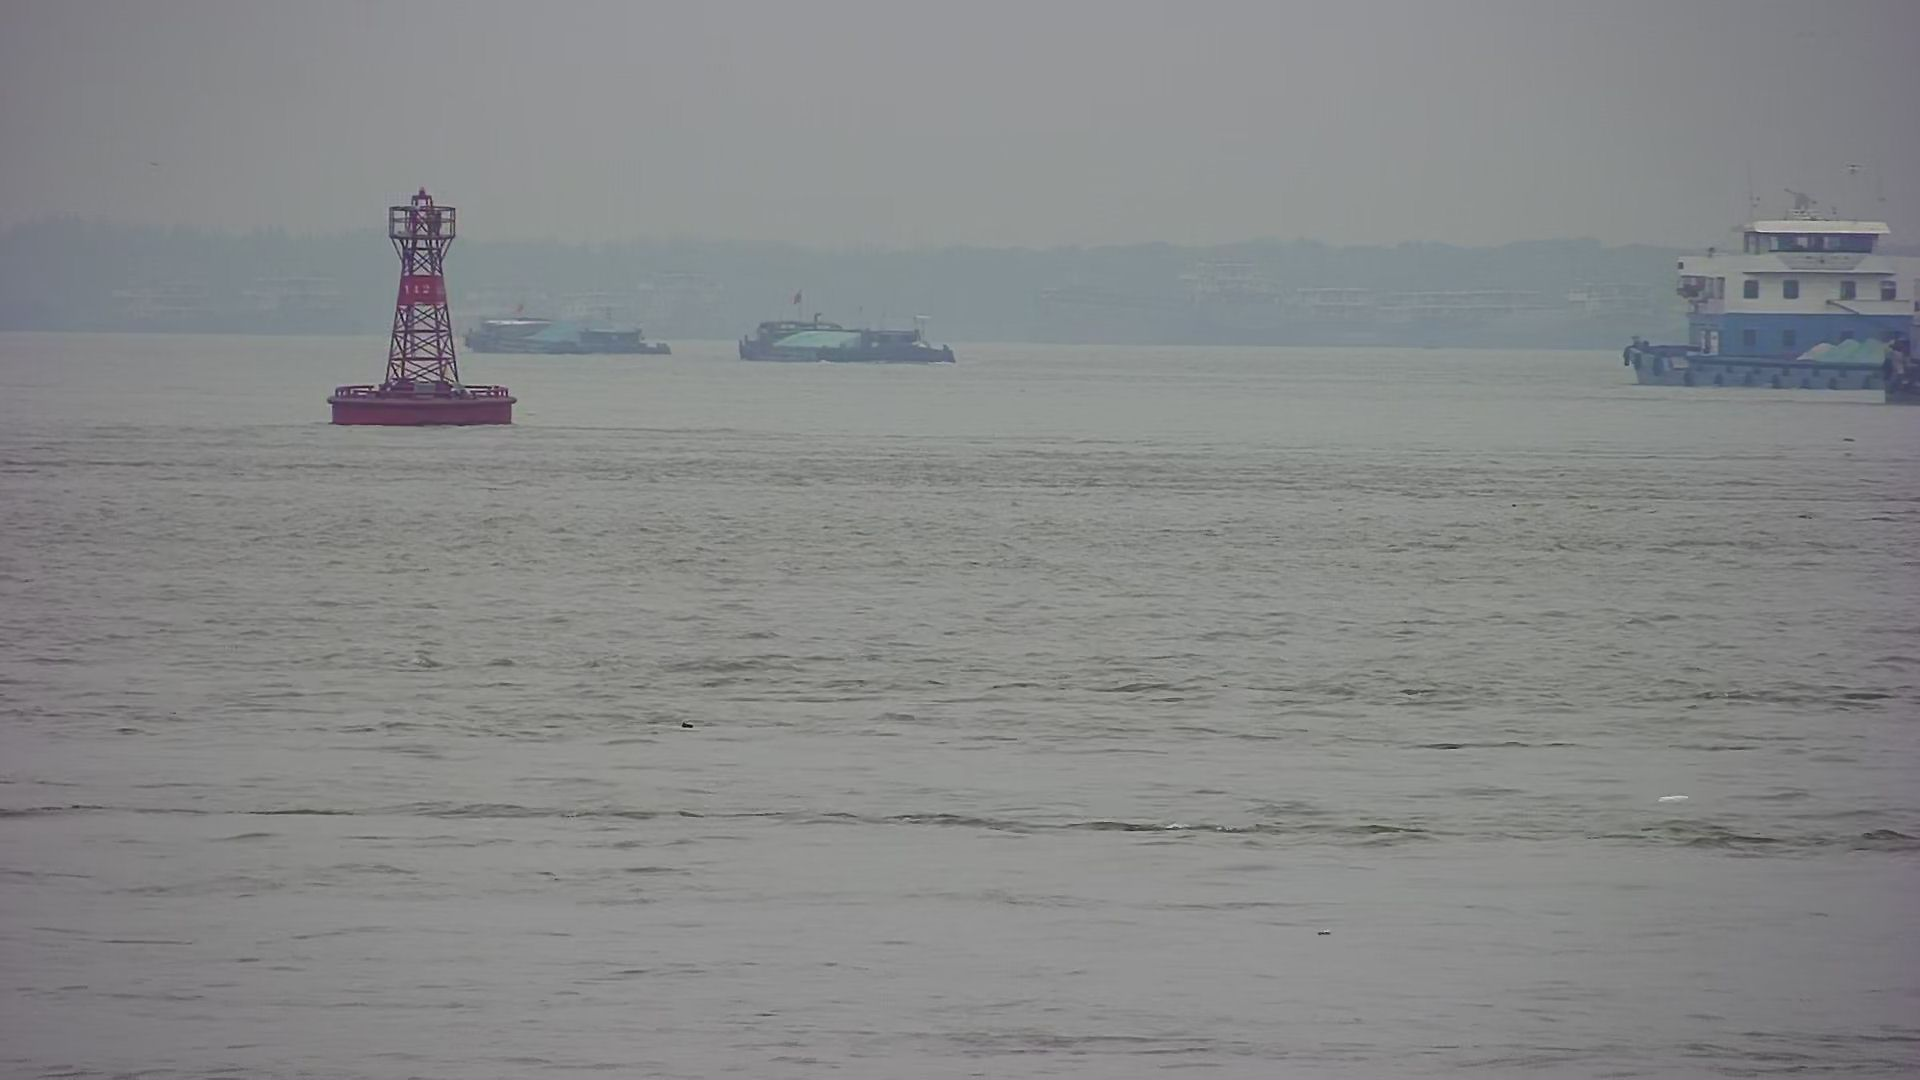platform: (318, 185, 524, 429)
ship: (1609, 203, 1913, 410), (731, 314, 957, 365), (456, 311, 675, 357)
